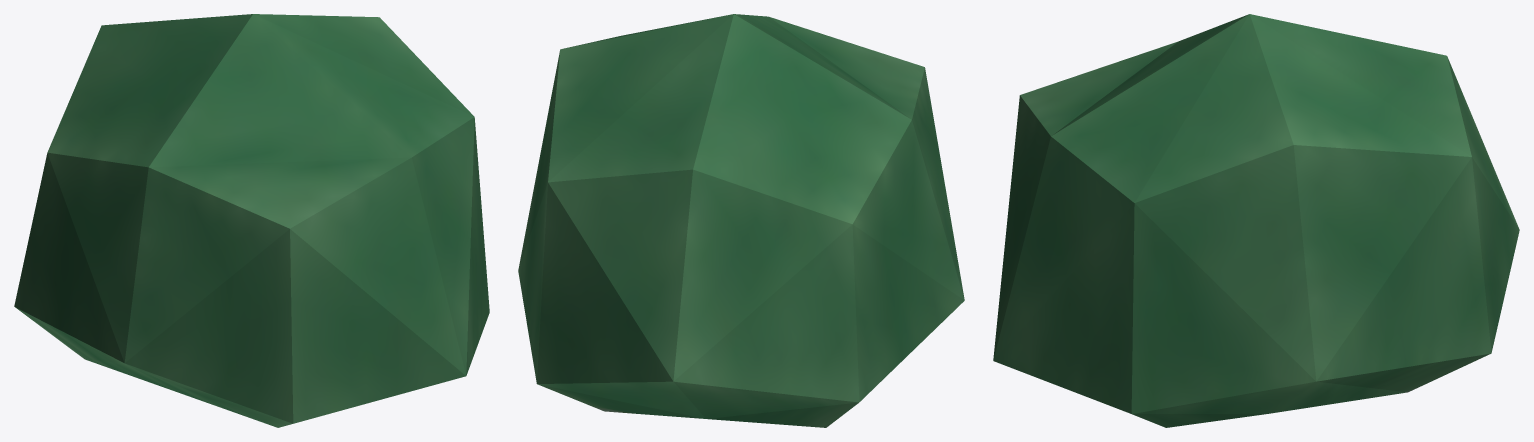
File: GJ_Decor_Exterior_Bush_02.fbx
3 views of the same model, side by side, from view 1: azimuth 30°, elevation 25°; view 2: azimuth 150°, elevation 25°; view 3: azimuth 270°, elevation 25° (orthographic). The views are drawn at different scales.
Visible parts, largest first — view 1: GJ_Decor_Exterior_Bush_02; view 2: GJ_Decor_Exterior_Bush_02; view 3: GJ_Decor_Exterior_Bush_02.
Part boxes in pixels (x1,y1,x2,y2): GJ_Decor_Exterior_Bush_02: (14, 14, 489, 427); GJ_Decor_Exterior_Bush_02: (518, 14, 964, 427); GJ_Decor_Exterior_Bush_02: (993, 14, 1519, 427).
Size of the model in its own units: 1.83 by 1.66 by 2.24.
Materials: 1 (1 with a texture image).
